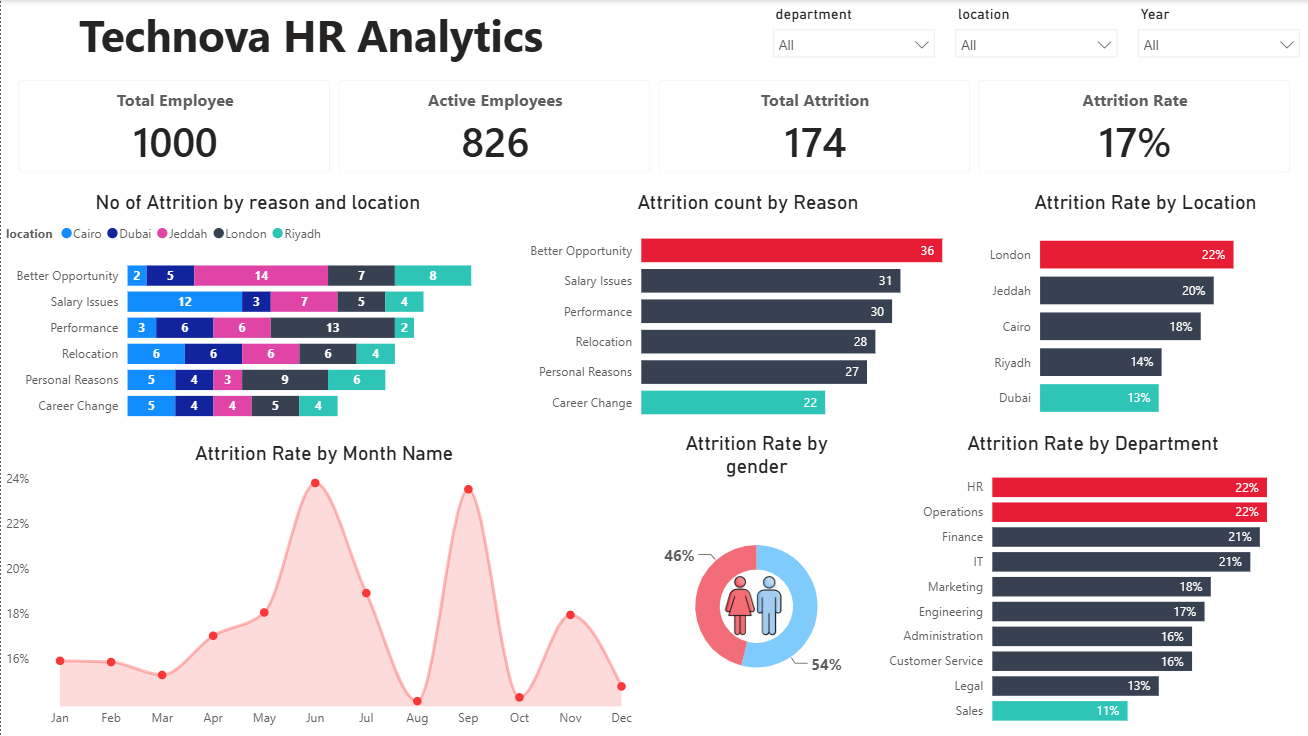

What the dashboard file says about the page in this screenshot:
{"tool":"powerbi","page":{"name":"overview ","canvas":[1280,720],"ordinal":0},"visuals":[{"type":"cardVisual","fields":{"Data":["totals.No of Employee","totals.Active Employees","totals.No of Attrition","totals.Attrition Rate"]},"box":[0,61.1,1280.3,126],"z":0},{"type":"barChart","title":"Attrition Rate by Department","fields":{"Y":["totals.Attrition Rate"],"Category":["dim-employees.department"]},"box":[856,423.1,424.3,297.1],"z":1000},{"type":"barChart","title":"Attrition Rate by Location","fields":{"Y":["totals.Attrition Rate"],"Category":["dim-employees.location"]},"box":[958.7,187.1,321.6,236],"z":2000},{"type":"donutChart","fields":{"Y":["totals.Attrition Rate"],"Category":["dim-employees.gender"]},"box":[632.6,423.3,214,297.1],"z":3000,"group":"g1"},{"type":"lineChart","fields":{"Y":["totals.Attrition Rate"],"Category":["Date.Month Name"]},"box":[0,432.9,632.2,287.4],"z":3000},{"type":"clusteredBarChart","title":"Attrition count by Reason","fields":{"Category":["fac-employees_attrition.reason"],"Y":["totals.No of Attrition"]},"box":[502.6,187.1,456.1,236],"z":4000},{"type":"group","id":"g1","title":"Group 1","box":[632.6,423.3,214,297.1],"z":5000},{"type":"barChart","fields":{"Category":["fac-employees_attrition.reason"],"Series":["dim-employees.location"],"Y":["totals.No of Attrition"]},"box":[0,187.1,502.6,236],"z":6000},{"type":"image","box":[698.6,563.9,75.8,57.5],"z":6000,"group":"g1"},{"type":"textbox","box":[0,0,606.5,69.7],"z":6001,"group":"g2"},{"type":"slicer","fields":{"Values":["dim-employees.department"]},"box":[744.7,0,178.5,61.1],"z":6002,"group":"g2"},{"type":"slicer","fields":{"Values":["dim-employees.location"]},"box":[923.2,0,178.5,61.1],"z":6003,"group":"g2"},{"type":"slicer","fields":{"Values":["Date.Year"]},"box":[1101.8,0,178.5,61.1],"z":6004,"group":"g2"},{"type":"group","id":"g2","title":"Group 2","box":[0,0,1280.3,69.7],"z":6005}]}

Visuals, with their boxes in screenshot pixels (x1, y1, x2, y2), scaled from the page's 1280x720 canvas onto the 1308x736 screenshot:
cardVisual - totals.No of Employee x totals.Active Employees: <bbox>0, 62, 1307, 191</bbox>
"Attrition Rate by Department" barChart: <bbox>875, 433, 1307, 735</bbox>
"Attrition Rate by Location" barChart: <bbox>980, 191, 1307, 433</bbox>
donutChart - totals.Attrition Rate x dim-employees.gender: <bbox>646, 433, 865, 735</bbox>
lineChart - totals.Attrition Rate x Date.Month Name: <bbox>0, 443, 646, 735</bbox>
"Attrition count by Reason" clusteredBarChart: <bbox>514, 191, 980, 433</bbox>
"Group 1" group: <bbox>646, 433, 865, 735</bbox>
barChart - fac-employees_attrition.reason x dim-employees.location: <bbox>0, 191, 514, 433</bbox>
image: <bbox>714, 576, 791, 635</bbox>
textbox: <bbox>0, 0, 620, 71</bbox>
slicer - dim-employees.department: <bbox>761, 0, 943, 62</bbox>
slicer - dim-employees.location: <bbox>943, 0, 1126, 62</bbox>
slicer - Date.Year: <bbox>1126, 0, 1307, 62</bbox>
"Group 2" group: <bbox>0, 0, 1307, 71</bbox>
